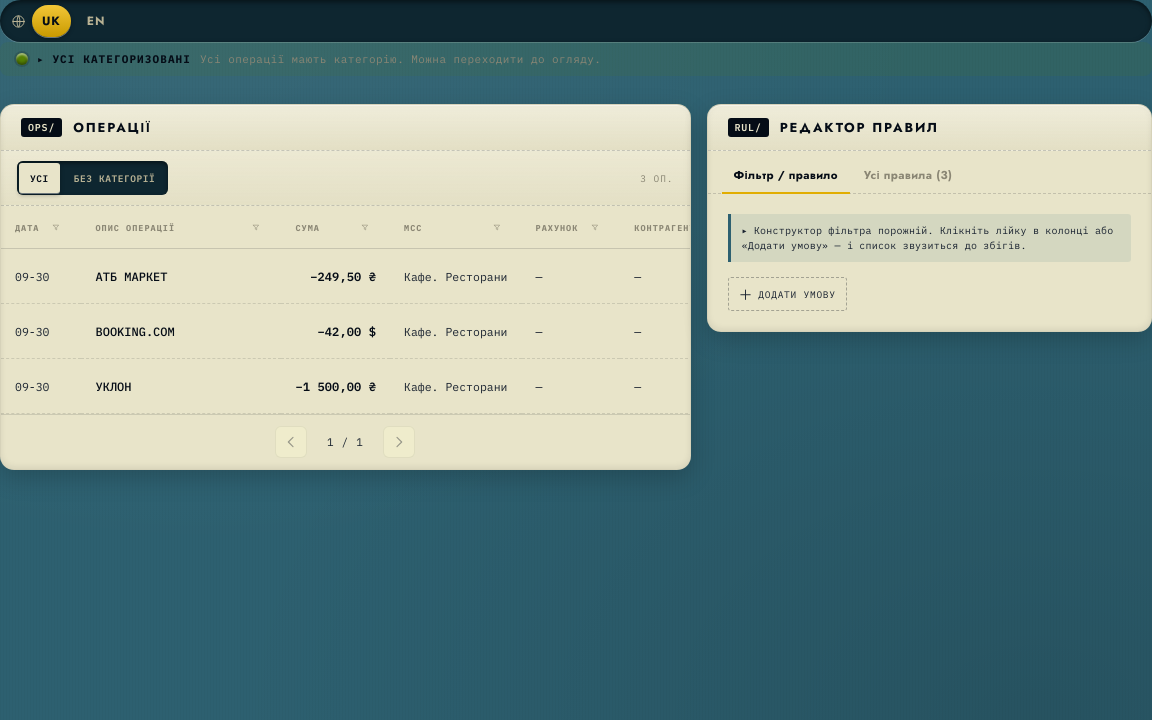
S3cCategorize — sandbox wiring (engage → banner → apply) › reorder engages the sandbox: SandboxBar appears + the .sandbox-on frame
Expected: the text "УКЛОН" is shown, top-left (96, 378), bottom-right (132, 394)
open the rules tab + reorder the first rule down (mobile ↓ affordance)
Click the button "Усі правила (3)": (908, 176) top-left (852, 159), bottom-right (964, 194)
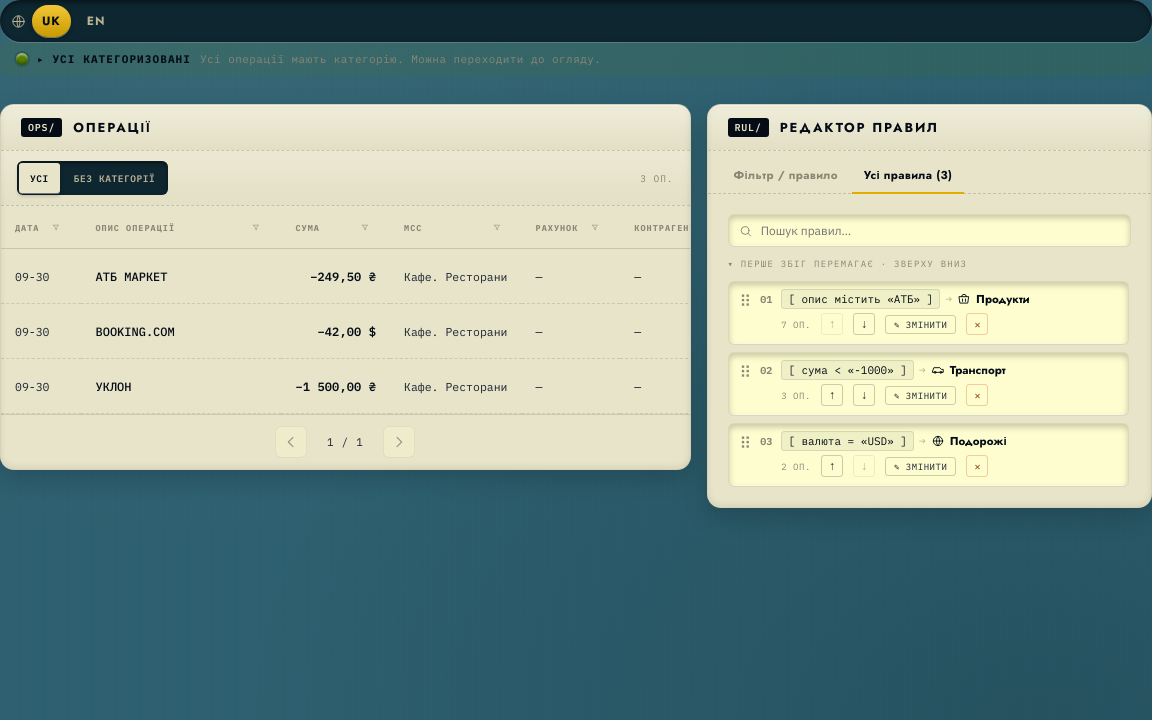
Click the button named "Вниз": (864, 324) top-left (853, 313), bottom-right (875, 335)
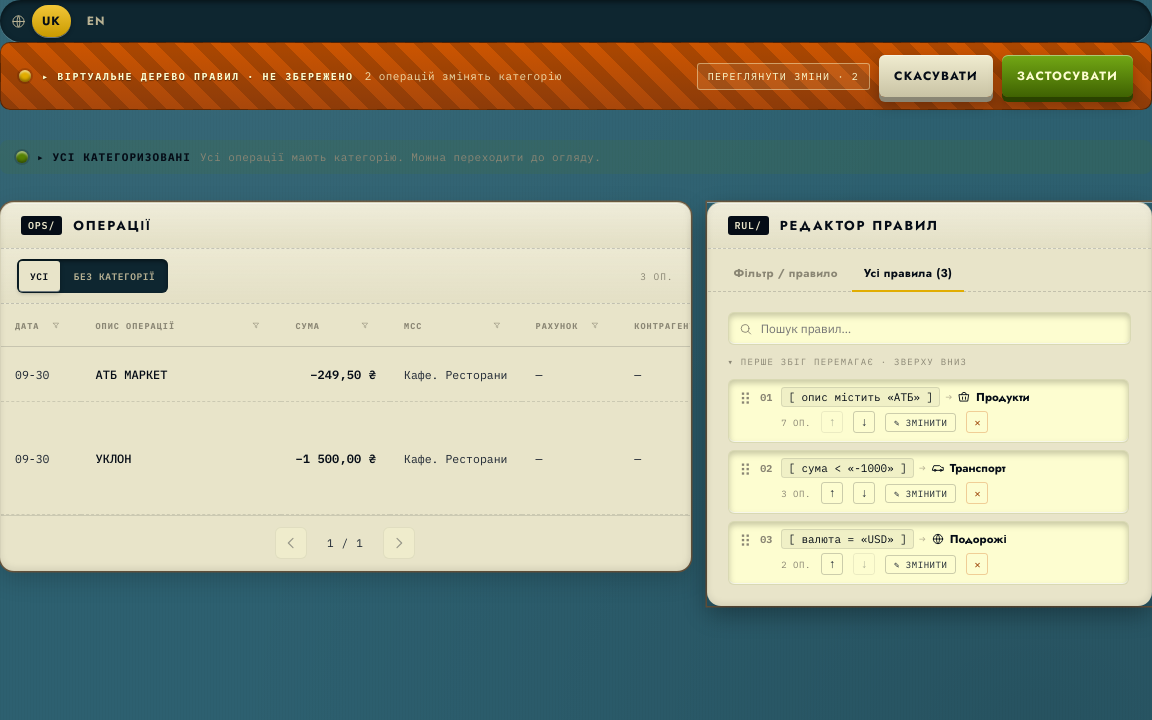
Expected: the text "УКЛОН" is shown, top-left (96, 450), bottom-right (132, 466)
Result: the element with test id "sandbox-bar" is shown at top-left (0, 42), bottom-right (1151, 110)
Result: the element with class "sandbox-on" is shown
